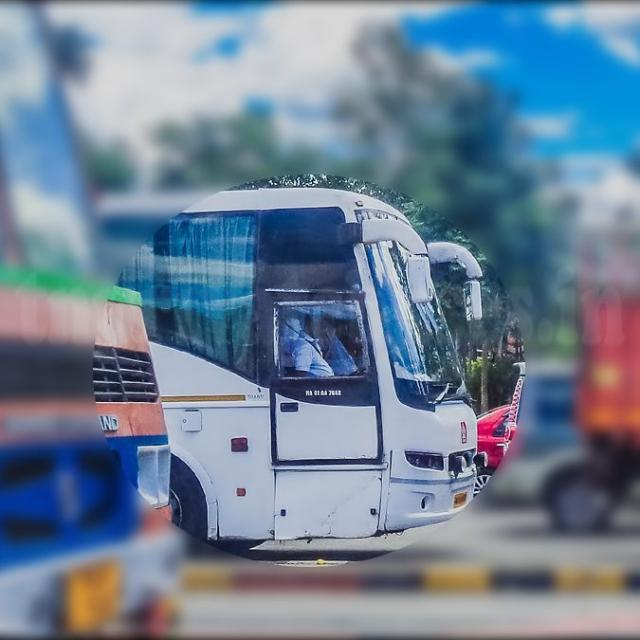Bus: (182, 188, 498, 540)
